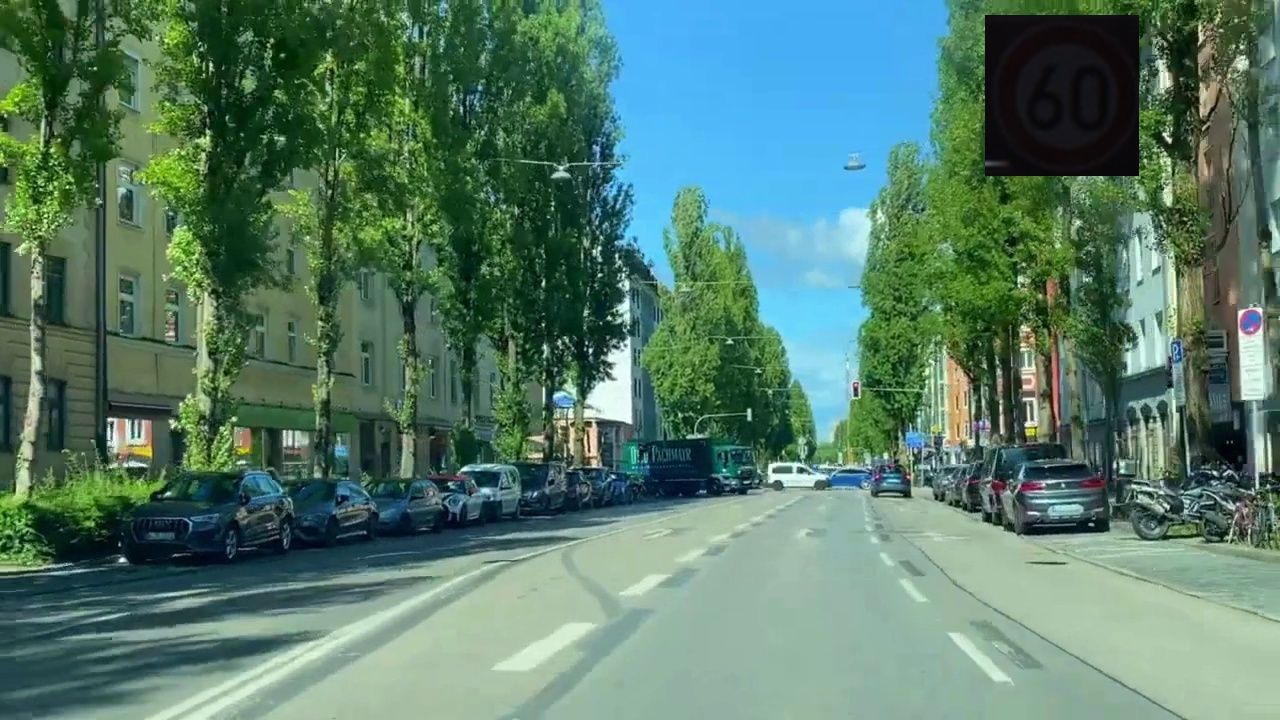Speed 60: (985, 15, 1139, 176)
